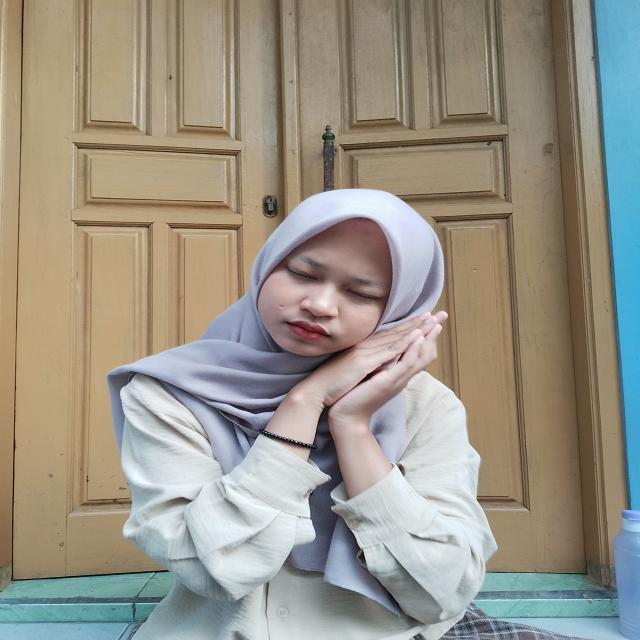tidur: (246, 304, 460, 468)
